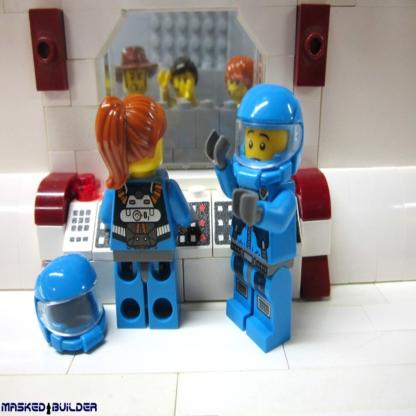Helmet: (232, 82, 305, 194)
